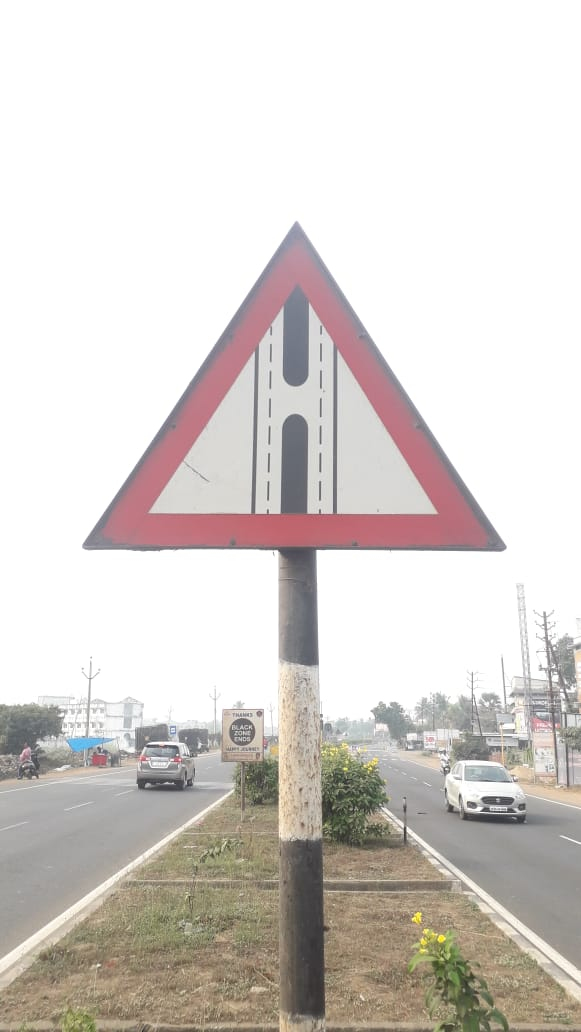highway go straight: (68, 202, 527, 615)
